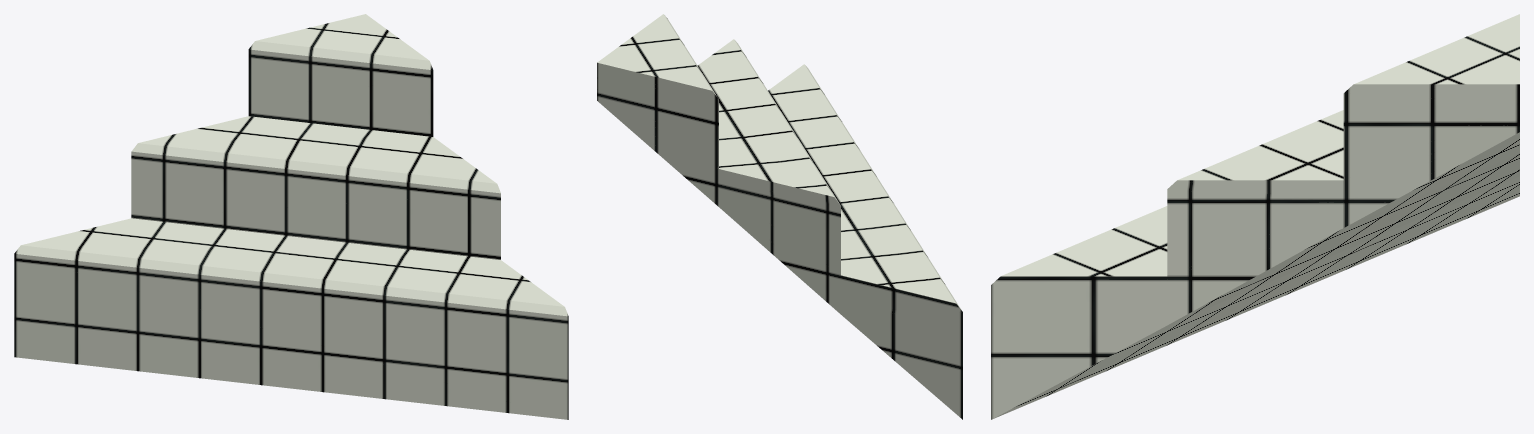
File: Stairs_turn.fbx
3 renders of one model, left to right at view 1: azimuth 30°, elevation 25°; view 2: azimuth 150°, elevation 25°; view 3: azimuth 270°, elevation 25°, orthographic. The views are drawn at different scales.
Parts seen in each view (by area): view 1: Stairs_turn; view 2: Stairs_turn; view 3: Stairs_turn.
Part boxes in pixels (left/top/right/bottom): Stairs_turn: left=14, top=14, right=568, bottom=419; Stairs_turn: left=597, top=14, right=962, bottom=419; Stairs_turn: left=991, top=14, right=1519, bottom=419.
Size of the model in its own units: 100 by 70 by 100.
